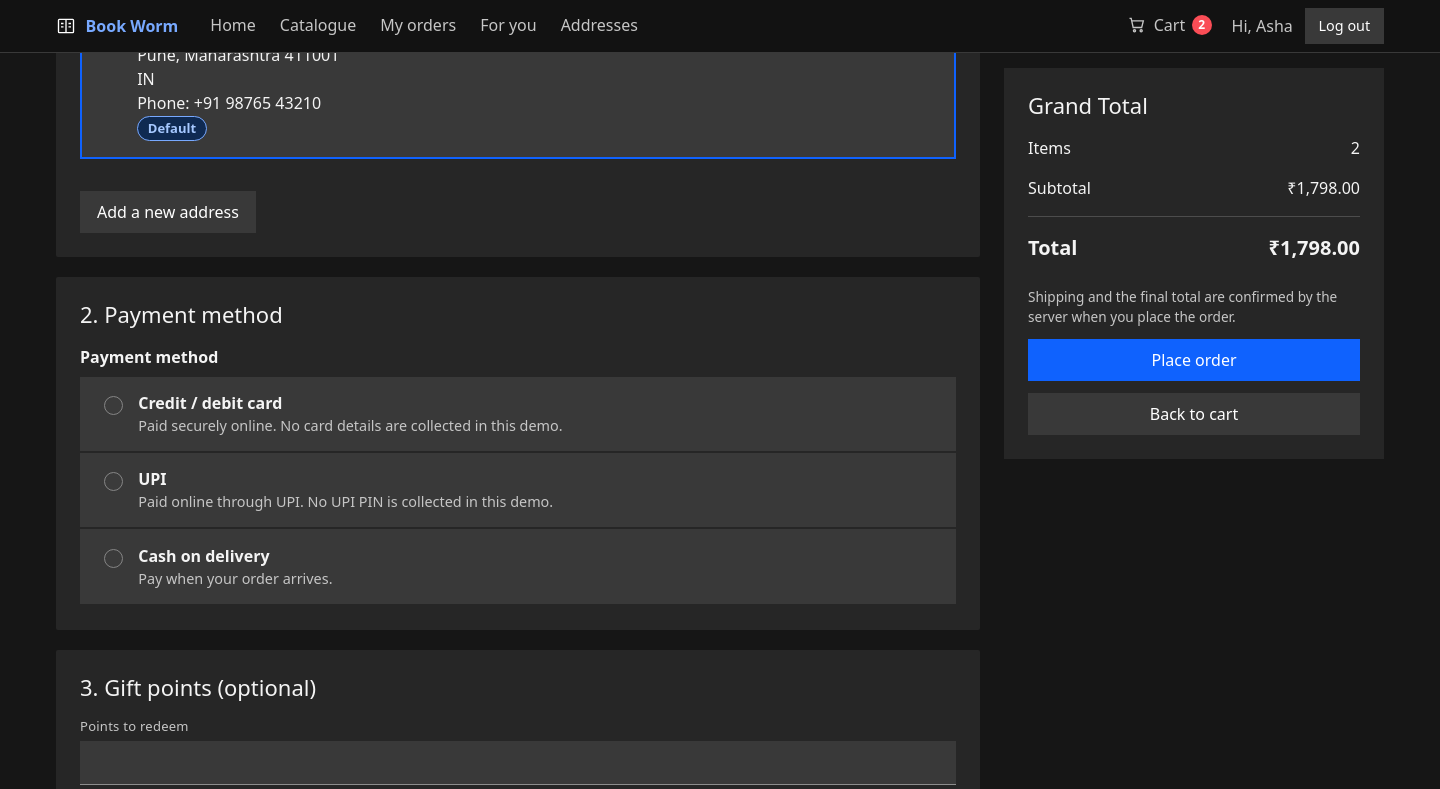
Test case: Journey: checkout, payment and confirmation › places a CARD order with an Idempotency-Key, pays, and only then shows confirmation
(page scrolled)
Click the radio button labelled "Credit / debit card" at {"x": 114, "y": 405}, box [104,396,123,415]
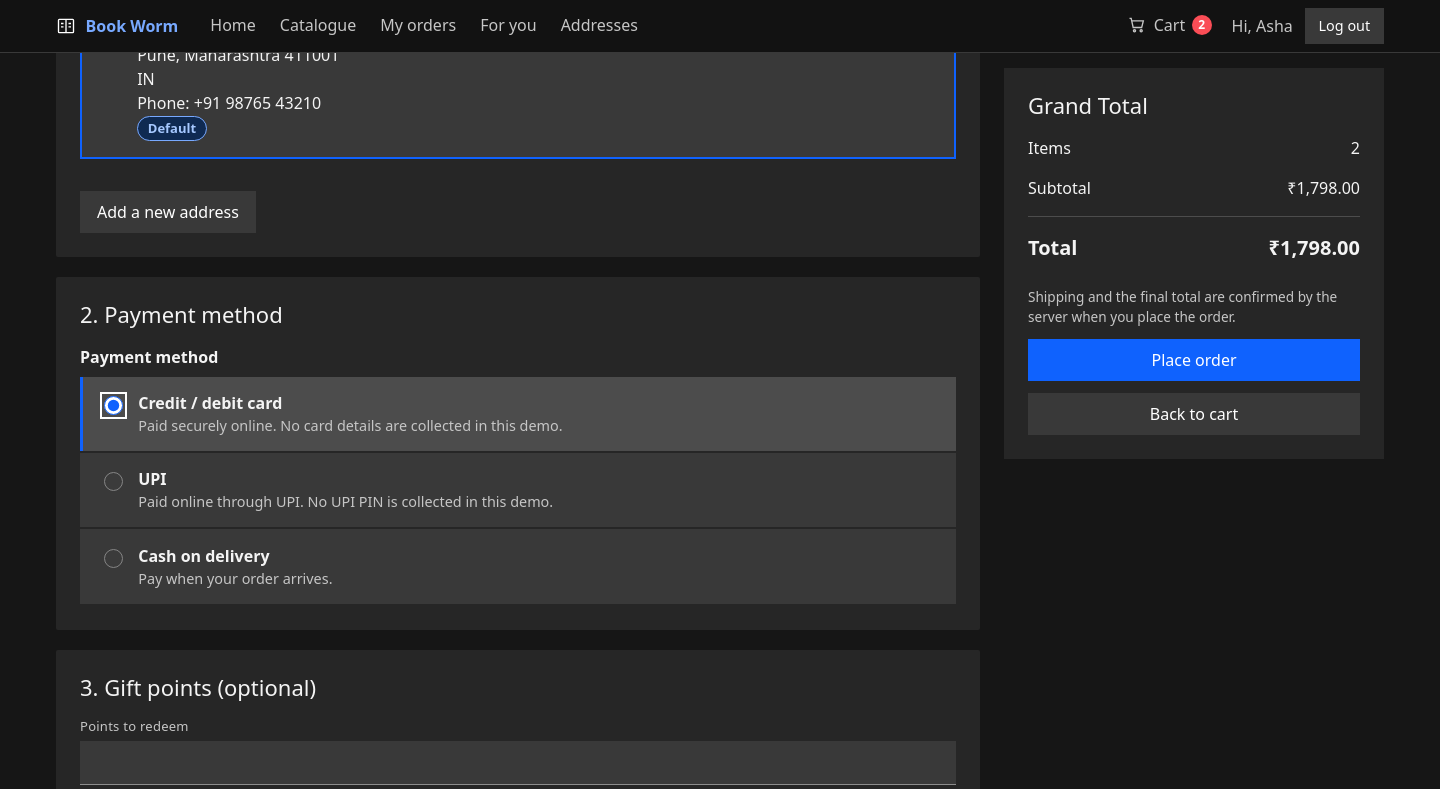
Type "100" into the field labelled "Points to redeem" at {"x": 518, "y": 763}, box [80,741,956,785]
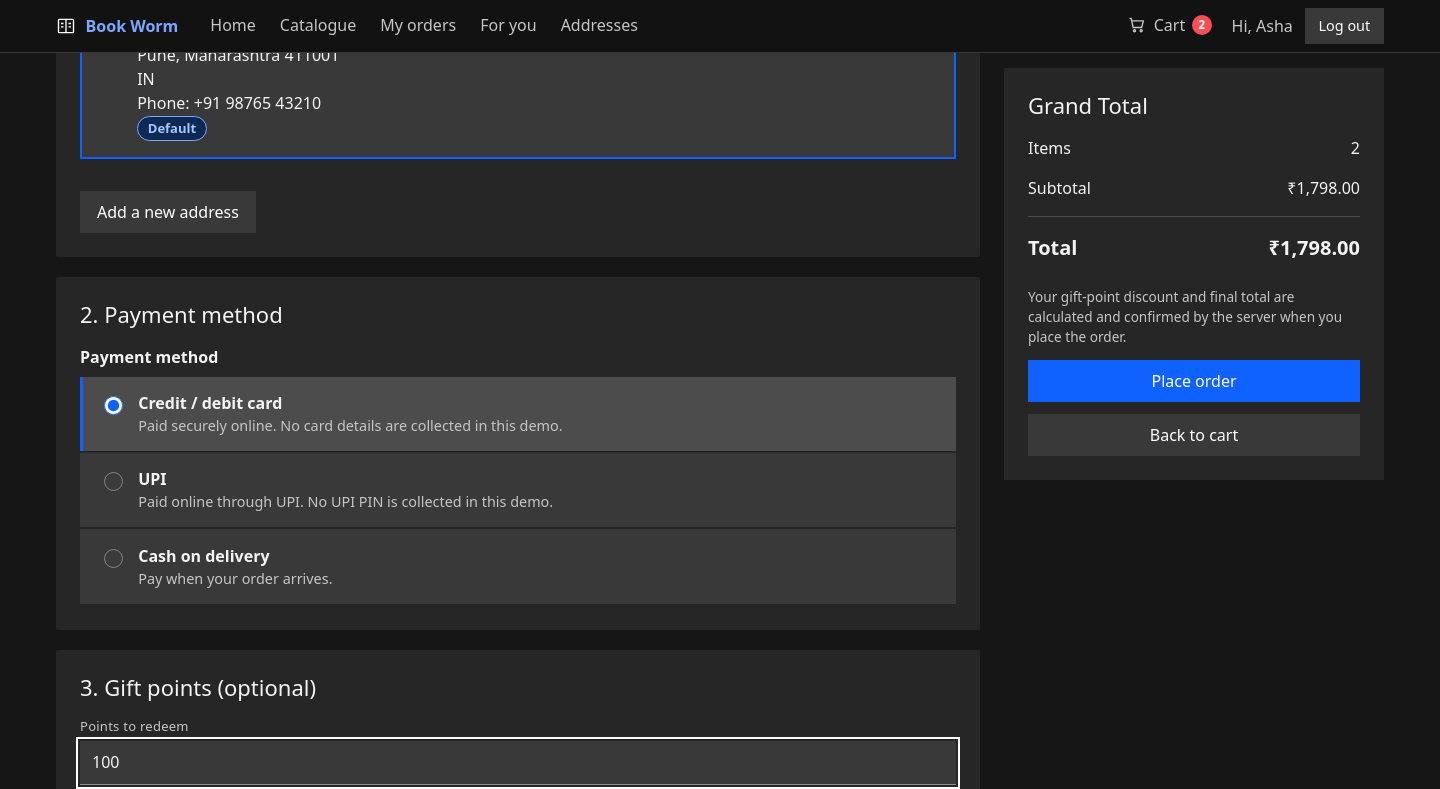
Click the button "Place order" at {"x": 1194, "y": 381}, box [1028,360,1360,402]
(page scrolled)
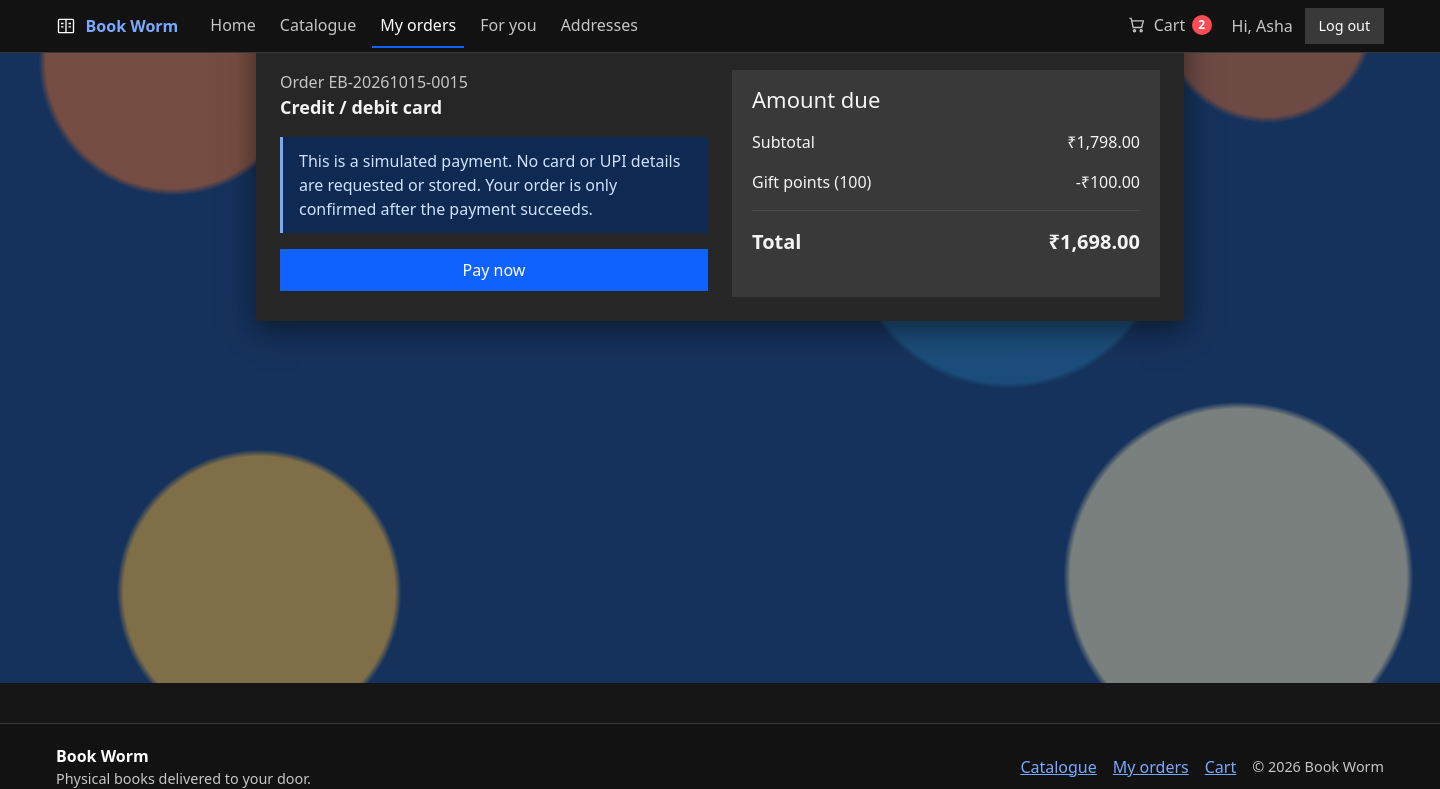
Check: the text "order is confirmed" is not shown
Click the button "Pay now" at {"x": 494, "y": 270}, box [280,249,708,291]
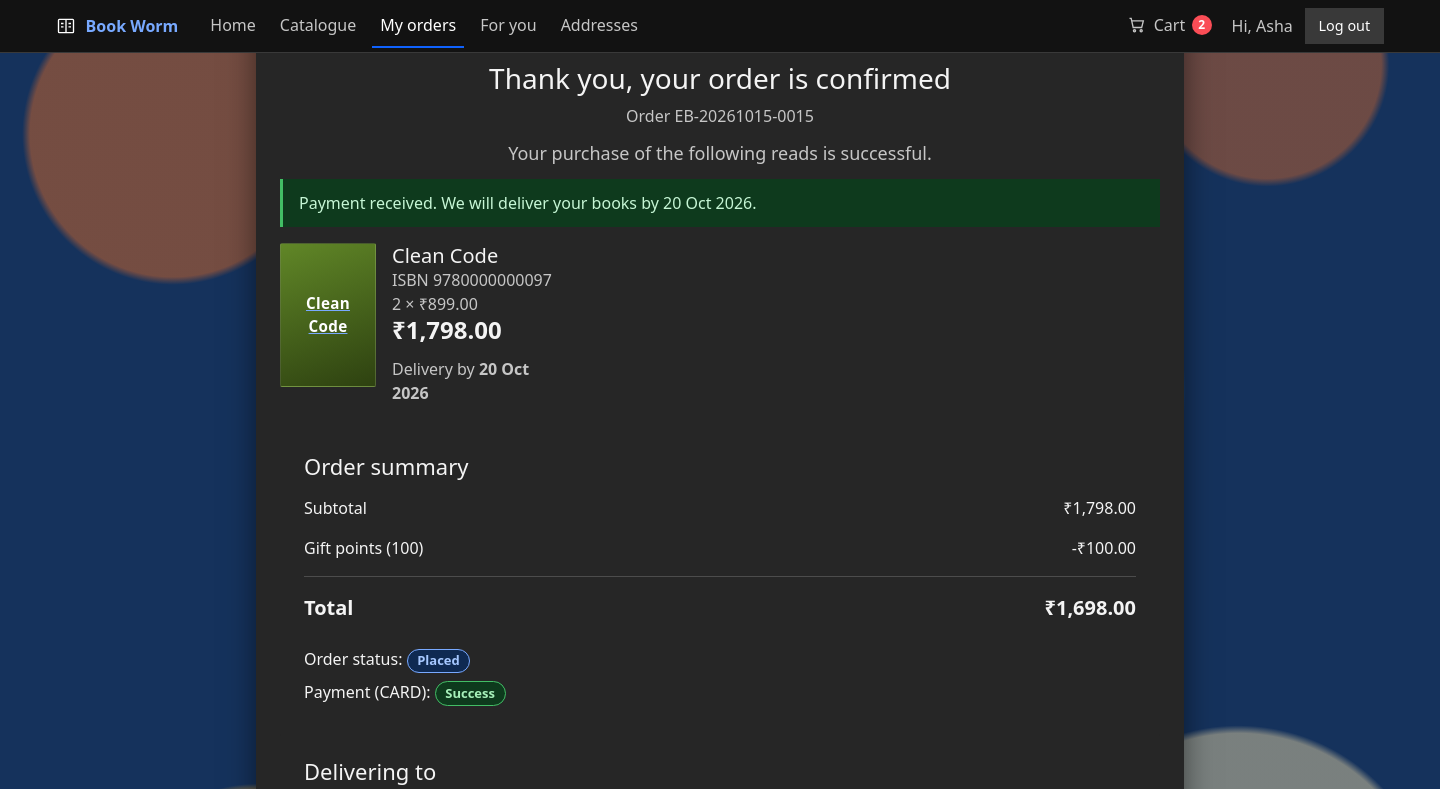
Check: the heading "Thank you, your order is confirmed" is shown, box [489,59,951,97]
